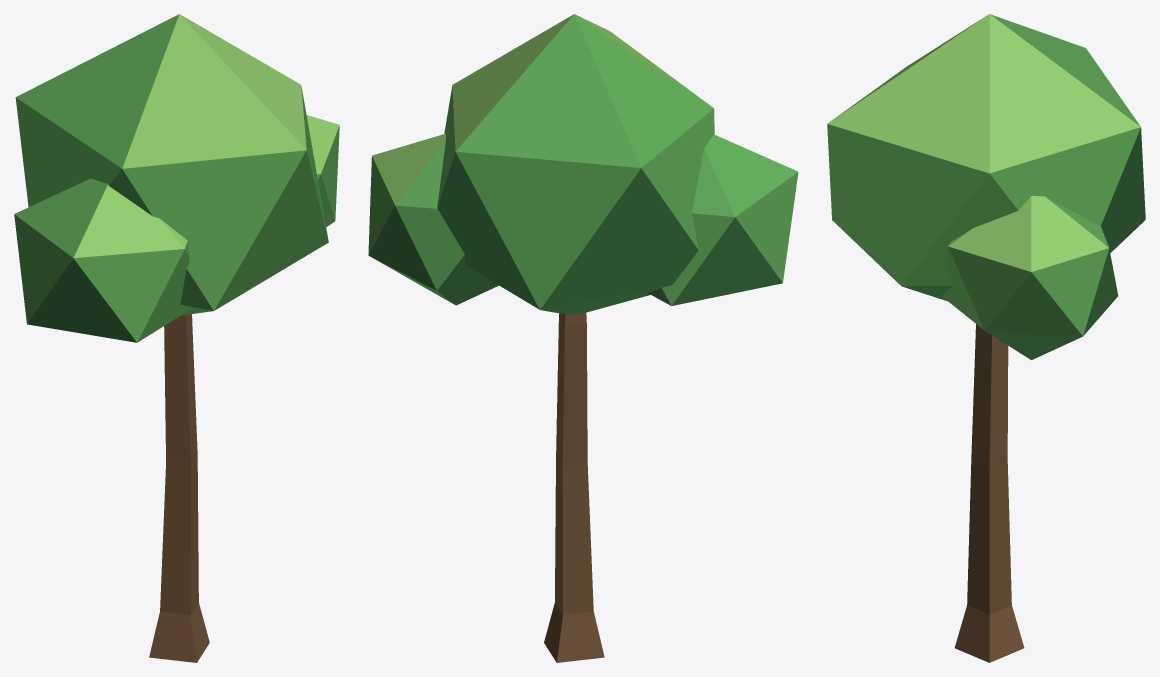
The model's file is tree_small_a_lod1.glb.
3 renders of one model, left to right at view 1: azimuth 30°, elevation 25°; view 2: azimuth 150°, elevation 25°; view 3: azimuth 270°, elevation 25°, orthographic.
Visible parts, largest first — view 1: tree_small_a_lod1; view 2: tree_small_a_lod1; view 3: tree_small_a_lod1.
Part boxes in pixels (box(x1,y1,x2,y2)): tree_small_a_lod1: box(14, 14, 339, 662); tree_small_a_lod1: box(368, 14, 798, 662); tree_small_a_lod1: box(827, 14, 1145, 662).
Bounding box in the file's own units: 2.98 × 5 × 2.28.
